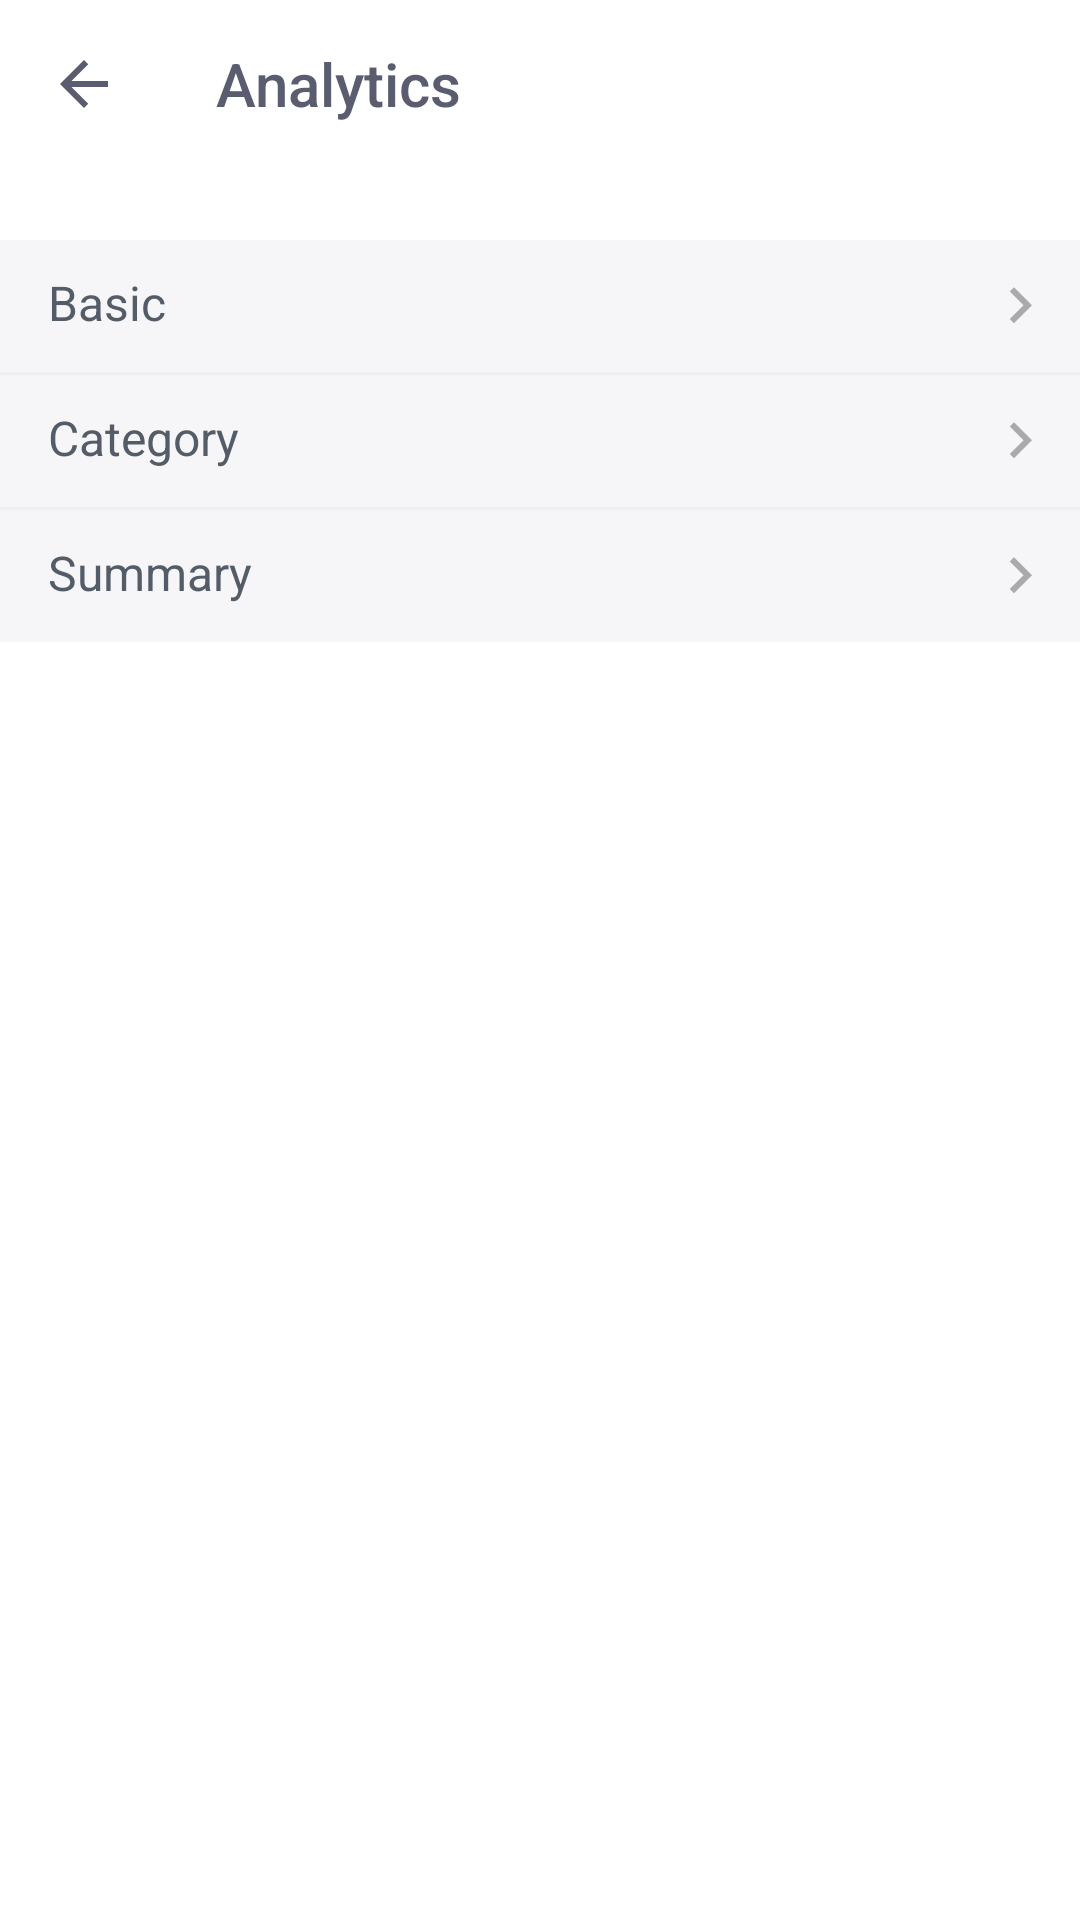

Where icons sit on this 1080 x 1920 app screen, as detection(x1, y1, x2, y2):
arrow back: detection(60, 60, 108, 108)
keyboard arrow right: detection(1010, 288, 1032, 323), detection(1010, 423, 1032, 458), detection(1010, 558, 1032, 593)
